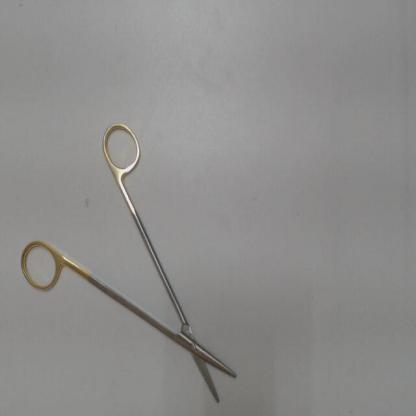7 Metzenbaum Scissors: (18, 114, 246, 412)
